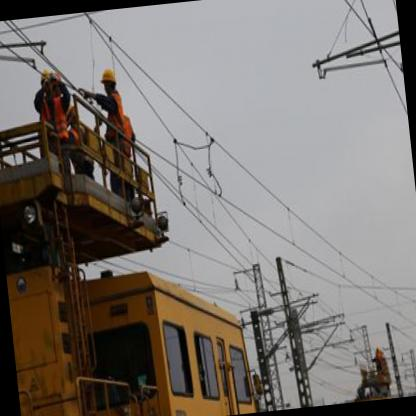helmet: (98, 63, 120, 98)
